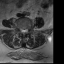CCS_normal: (23, 26, 25, 35)
LFS_normal: (27, 25, 29, 33)
LLS_normal: (25, 26, 27, 34)
RFS_normal: (18, 25, 20, 32)
RLS_normal: (20, 26, 23, 34)
